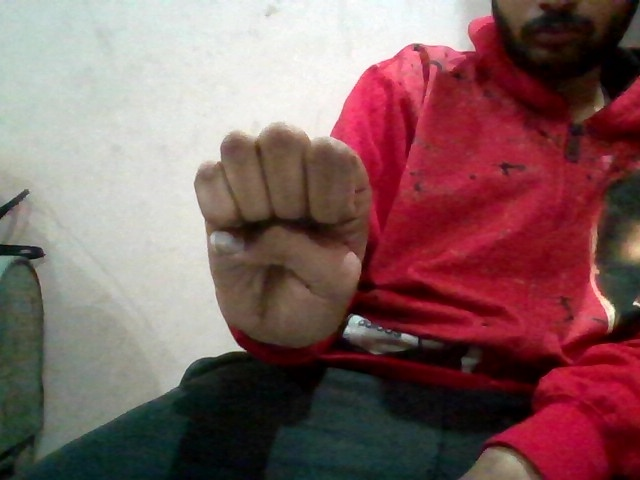E: (182, 116, 393, 364)
